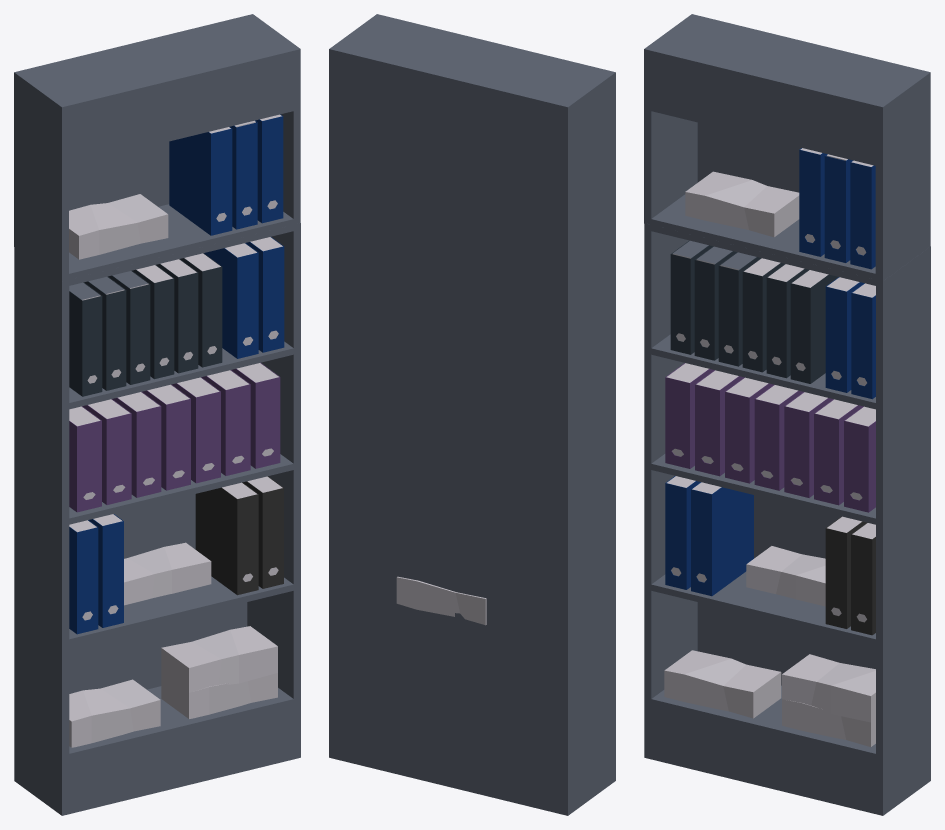
Rendered from scene_bookshelf2.fbx.
3 renders of one model, left to right at view 1: azimuth 30°, elevation 25°; view 2: azimuth 150°, elevation 25°; view 3: azimuth 330°, elevation 25°, orthographic.
Parts seen in each view (by area): view 1: bookshelf2; view 2: bookshelf2; view 3: bookshelf2.
Boxes of the visible parts, bbox=[...] form: bookshelf2: bbox=[14, 14, 300, 815]; bookshelf2: bbox=[329, 14, 615, 815]; bookshelf2: bbox=[644, 14, 930, 815].
Size of the model in its own units: 138 by 391 by 48.97.
